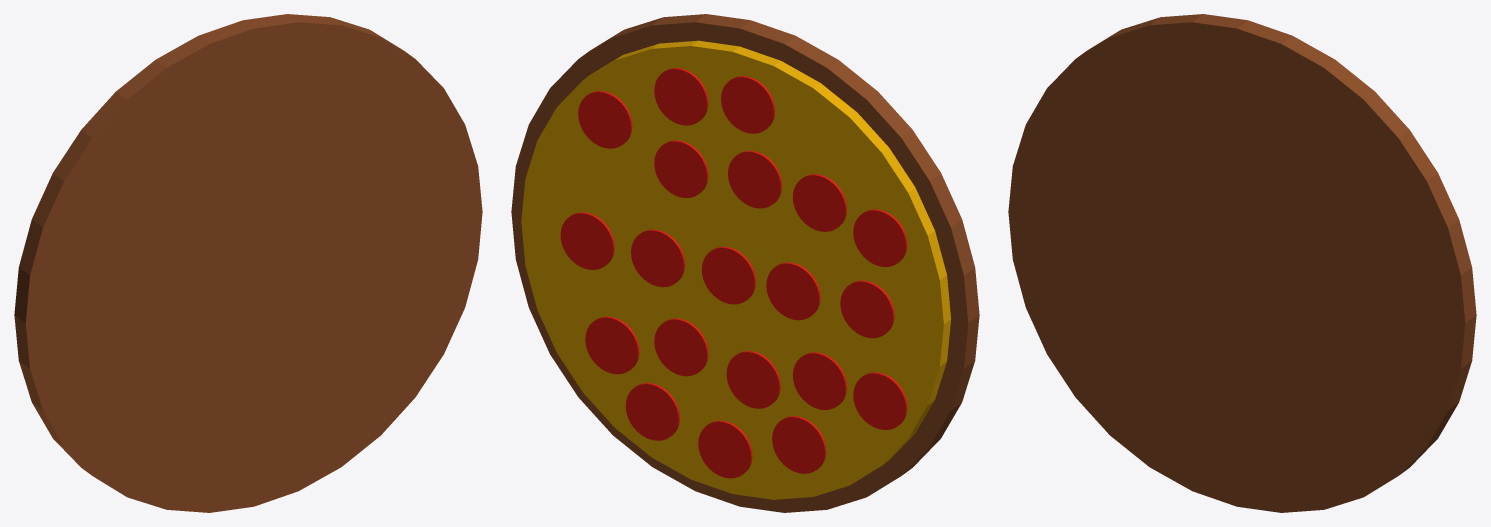
Rendered from ENVIRONMENT_OFFICE_PIZZA.fbx.
3 views of the same model, side by side, from view 1: azimuth 30°, elevation 25°; view 2: azimuth 150°, elevation 25°; view 3: azimuth 330°, elevation 25° (orthographic).
Parts seen in each view (by area): view 1: Cylinder.033; view 2: Cylinder.033; view 3: Cylinder.033.
Boxes of the visible parts, x1,y1,x2,y2 form: Cylinder.033: (14, 14, 482, 512); Cylinder.033: (511, 14, 979, 512); Cylinder.033: (1008, 14, 1476, 512).
Bounding box in the file's own units: 109 × 109 × 9.49.
